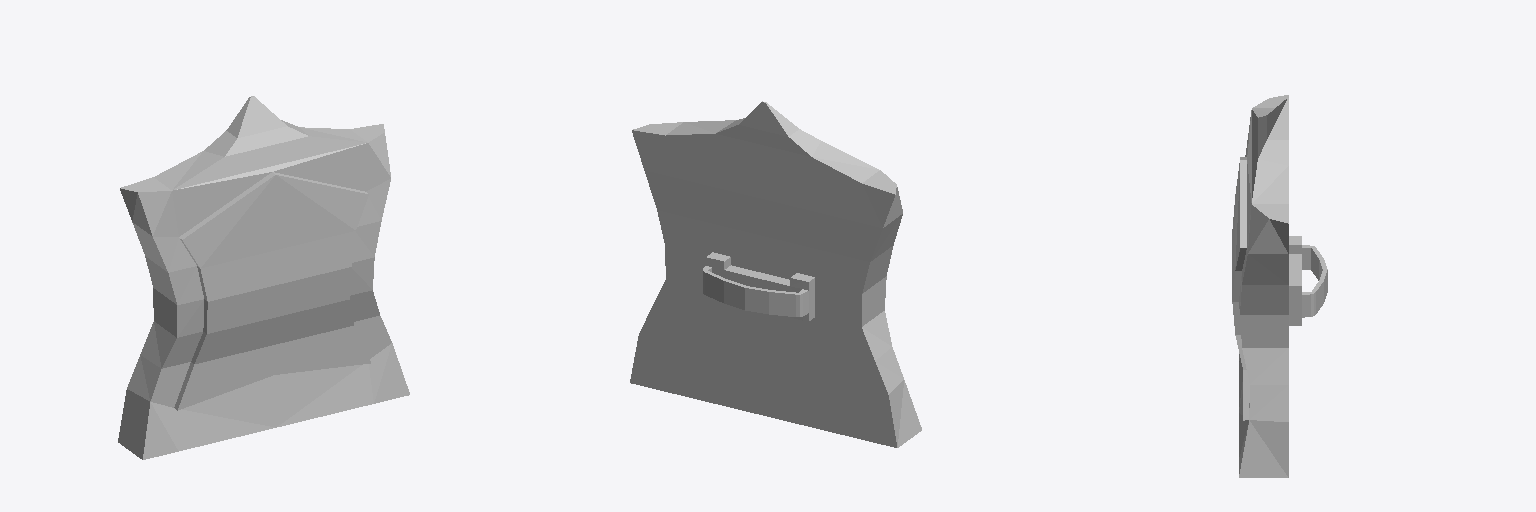
Rendered from shield.obj.
3 views of the same model, side by side, from view 1: azimuth 30°, elevation 25°; view 2: azimuth 150°, elevation 25°; view 3: azimuth 270°, elevation 25° (orthographic).
Parts seen in each view (by area): view 1: Cube; view 2: Cube; view 3: Cube.
Boxes of the visible parts, <box> form: Cube: <box>118,96,409,459</box>; Cube: <box>630,101,921,447</box>; Cube: <box>1232,95,1327,477</box>.
Bounding box in the file's own units: 1.09 × 1.22 × 0.3367.